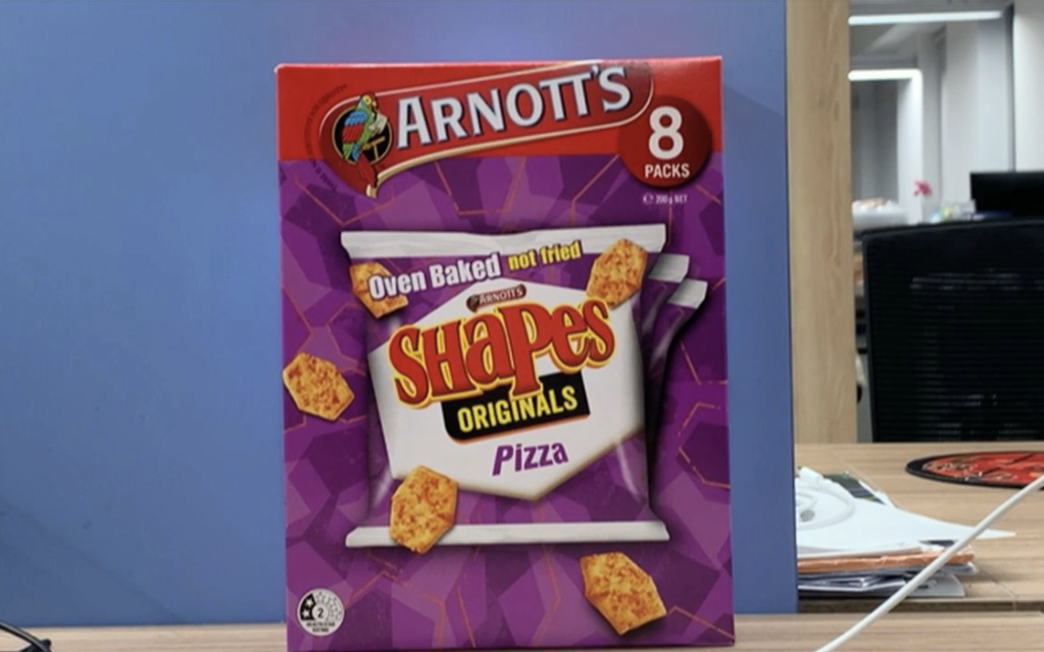crackers_200g-299g: (287, 66, 723, 637)
